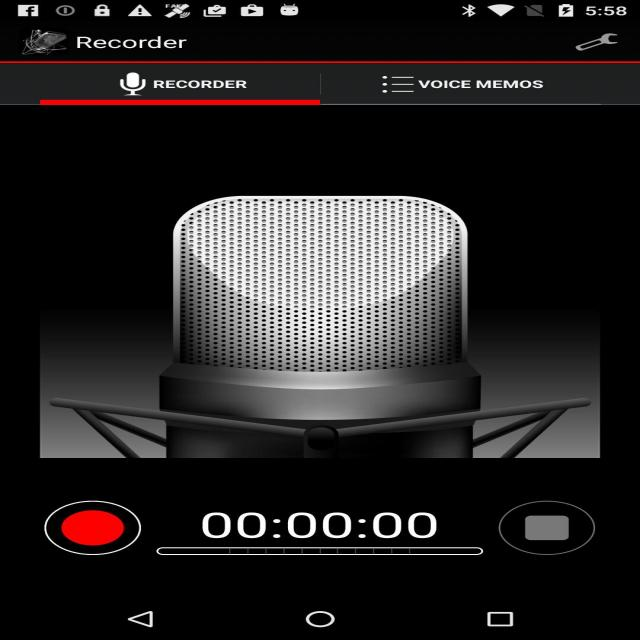icon: (89, 173, 640, 578)
